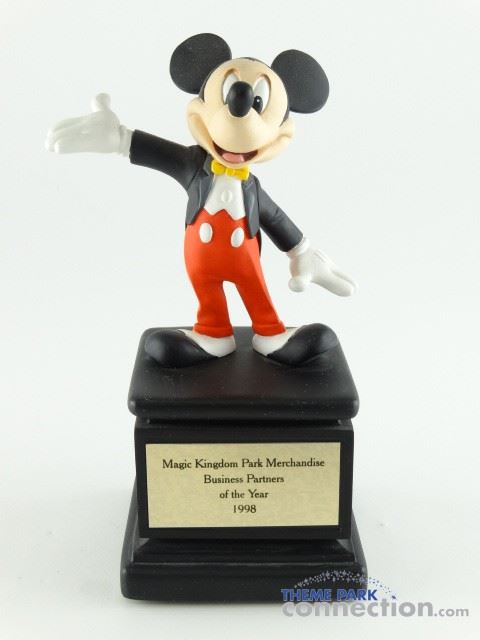Mickey: (169, 31, 333, 171)
